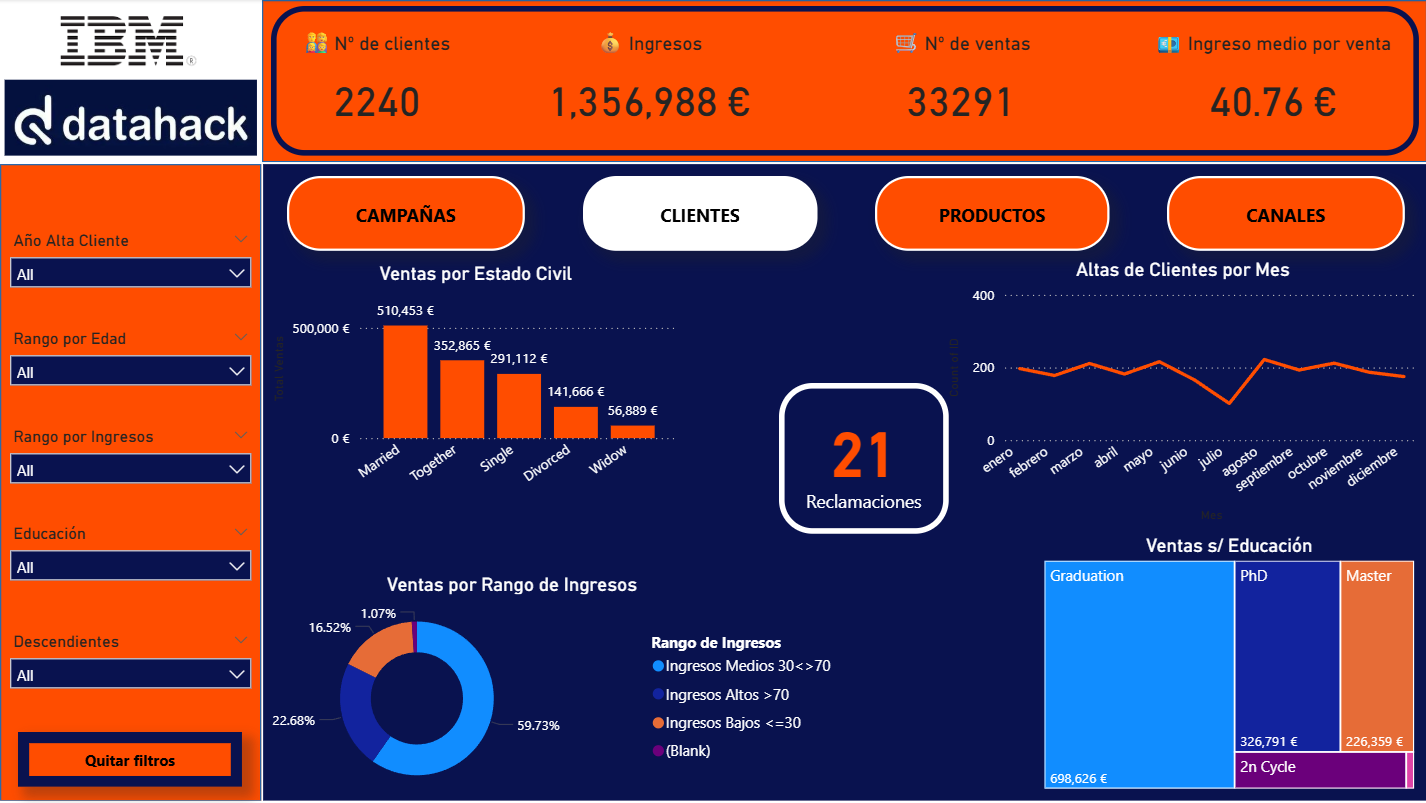

The page's visual inventory and layout, read from the dashboard file:
{"tool":"powerbi","page":{"name":"Clientes","canvas":[1280,720],"ordinal":1},"visuals":[{"type":"shape","box":[234.8,0,1045.2,147.1],"z":0},{"type":"shape","box":[243.9,6,1028,134],"z":1000},{"type":"shape","box":[0,147.1,235.8,572.5],"z":2000},{"type":"slicer","fields":{"Values":["Dim_Customers.Rango_Year_Birth"]},"box":[0,291.3,235.8,87.7],"z":3000},{"type":"slicer","fields":{"Values":["Dim_Calendar_DAX.Date.Variación.Jerarquía de fechas.Año"]},"box":[0,203.6,235.8,87.7],"z":4000},{"type":"slicer","fields":{"Values":["Dim_Customers.Rango_Income"]},"box":[0,379,235.8,86.7],"z":5000},{"type":"slicer","fields":{"Values":["Dim_Customers.Education"]},"box":[0,465.6,235.8,87.7],"z":6000},{"type":"actionButton","box":[17.1,656.1,200.6,49.4],"z":7000},{"type":"slicer","fields":{"Values":["Dim_Customers.Descendientes"]},"box":[0,562.4,235.8,80.6],"z":8000},{"type":"image","box":[38.3,0,151.2,73.6],"z":9000},{"type":"image","box":[0,66.5,235.8,80.6],"z":10000},{"type":"shape","box":[235.8,147.1,1044.2,572.5],"z":11000},{"type":"actionButton","box":[258,158.2,212.7,66.5],"z":12000},{"type":"actionButton","box":[523.1,158.2,209.6,66.5],"z":13000},{"type":"actionButton","box":[784.1,158.2,209.6,66.5],"z":14000},{"type":"actionButton","box":[1046.2,158.2,212.7,66.5],"z":15000},{"type":"card","title":"👨👩👧👦 Nº de clientes","fields":{"Values":["DAX_Measures.Total Clientes"]},"box":[234.8,26.2,207.6,105.8],"z":16000},{"type":"card","title":"💰 Ingresos","fields":{"Values":["DAX_Measures.Total Ventas"]},"box":[442.5,26.2,279.2,105.8],"z":17000},{"type":"card","title":"🛒 Nº de ventas","fields":{"Values":["DAX_Measures.Nº total ventas"]},"box":[721.6,26.2,279.2,105.8],"z":18000},{"type":"card","title":"💶 Ingreso medio por venta","fields":{"Values":["DAX_Measures.Ingreso medio por compra"]},"box":[1000.8,26.2,279.2,105.8],"z":19000},{"type":"columnChart","title":"Ventas por Estado Civil","fields":{"Category":["Dim_Customers.Marital_Status"],"Y":["DAX_Measures.Total Ventas"]},"box":[239.9,235.8,373.9,219.7],"z":20000},{"type":"donutChart","title":"Ventas por Rango de Ingresos","fields":{"Y":["DAX_Measures.Total Clientes"],"Category":["Dim_Customers.Rango_Income"]},"box":[159.2,514,599.7,205.6],"z":21000},{"type":"treemap","title":"Ventas s/ Educación","fields":{"Values":["DAX_Measures.Total Ventas"],"Group":["Dim_Customers.Education"]},"box":[931.3,478.7,340.7,232.8],"z":22000},{"type":"card","title":"Reclamaciones","fields":{"Values":["Sum(Dim_Channels.Complain)"]},"box":[699,344.2,151.9,134.9],"z":23000},{"type":"lineChart","title":"Altas de Clientes por Mes","fields":{"Category":["Dim_Calendar_DAX.Date.Variación.Jerarquía de fechas.Mes"],"Y":["CountNonNull(Dim_Customers.ID)"]},"box":[844.5,231.6,431.3,241.1],"z":24000}]}

Visuals, with their boxes in screenshot pixels (x1, y1, x2, y2), scaled from the page's 1280x720 canvas onto the 1426x803 screenshot:
shape: [left=262, top=0, right=1425, bottom=164]
shape: [left=272, top=7, right=1417, bottom=156]
shape: [left=0, top=164, right=263, bottom=802]
slicer - Dim_Customers.Rango_Year_Birth: [left=0, top=325, right=263, bottom=423]
slicer - Dim_Calendar_DAX.Date.Variación.Jerarquía de fechas.Año: [left=0, top=227, right=263, bottom=325]
slicer - Dim_Customers.Rango_Income: [left=0, top=423, right=263, bottom=519]
slicer - Dim_Customers.Education: [left=0, top=519, right=263, bottom=617]
actionButton: [left=19, top=732, right=243, bottom=787]
slicer - Dim_Customers.Descendientes: [left=0, top=627, right=263, bottom=717]
image: [left=43, top=0, right=211, bottom=82]
image: [left=0, top=74, right=263, bottom=164]
shape: [left=263, top=164, right=1425, bottom=802]
actionButton: [left=287, top=176, right=524, bottom=251]
actionButton: [left=583, top=176, right=816, bottom=251]
actionButton: [left=874, top=176, right=1107, bottom=251]
actionButton: [left=1166, top=176, right=1402, bottom=251]
"👨👩👧👦 Nº de clientes" card: [left=262, top=29, right=493, bottom=147]
"💰 Ingresos" card: [left=493, top=29, right=804, bottom=147]
"🛒 Nº de ventas" card: [left=804, top=29, right=1115, bottom=147]
"💶 Ingreso medio por venta" card: [left=1115, top=29, right=1425, bottom=147]
"Ventas por Estado Civil" columnChart: [left=267, top=263, right=684, bottom=508]
"Ventas por Rango de Ingresos" donutChart: [left=177, top=573, right=845, bottom=802]
"Ventas s/ Educación" treemap: [left=1038, top=534, right=1417, bottom=794]
"Reclamaciones" card: [left=779, top=384, right=948, bottom=534]
"Altas de Clientes por Mes" lineChart: [left=941, top=258, right=1421, bottom=527]
